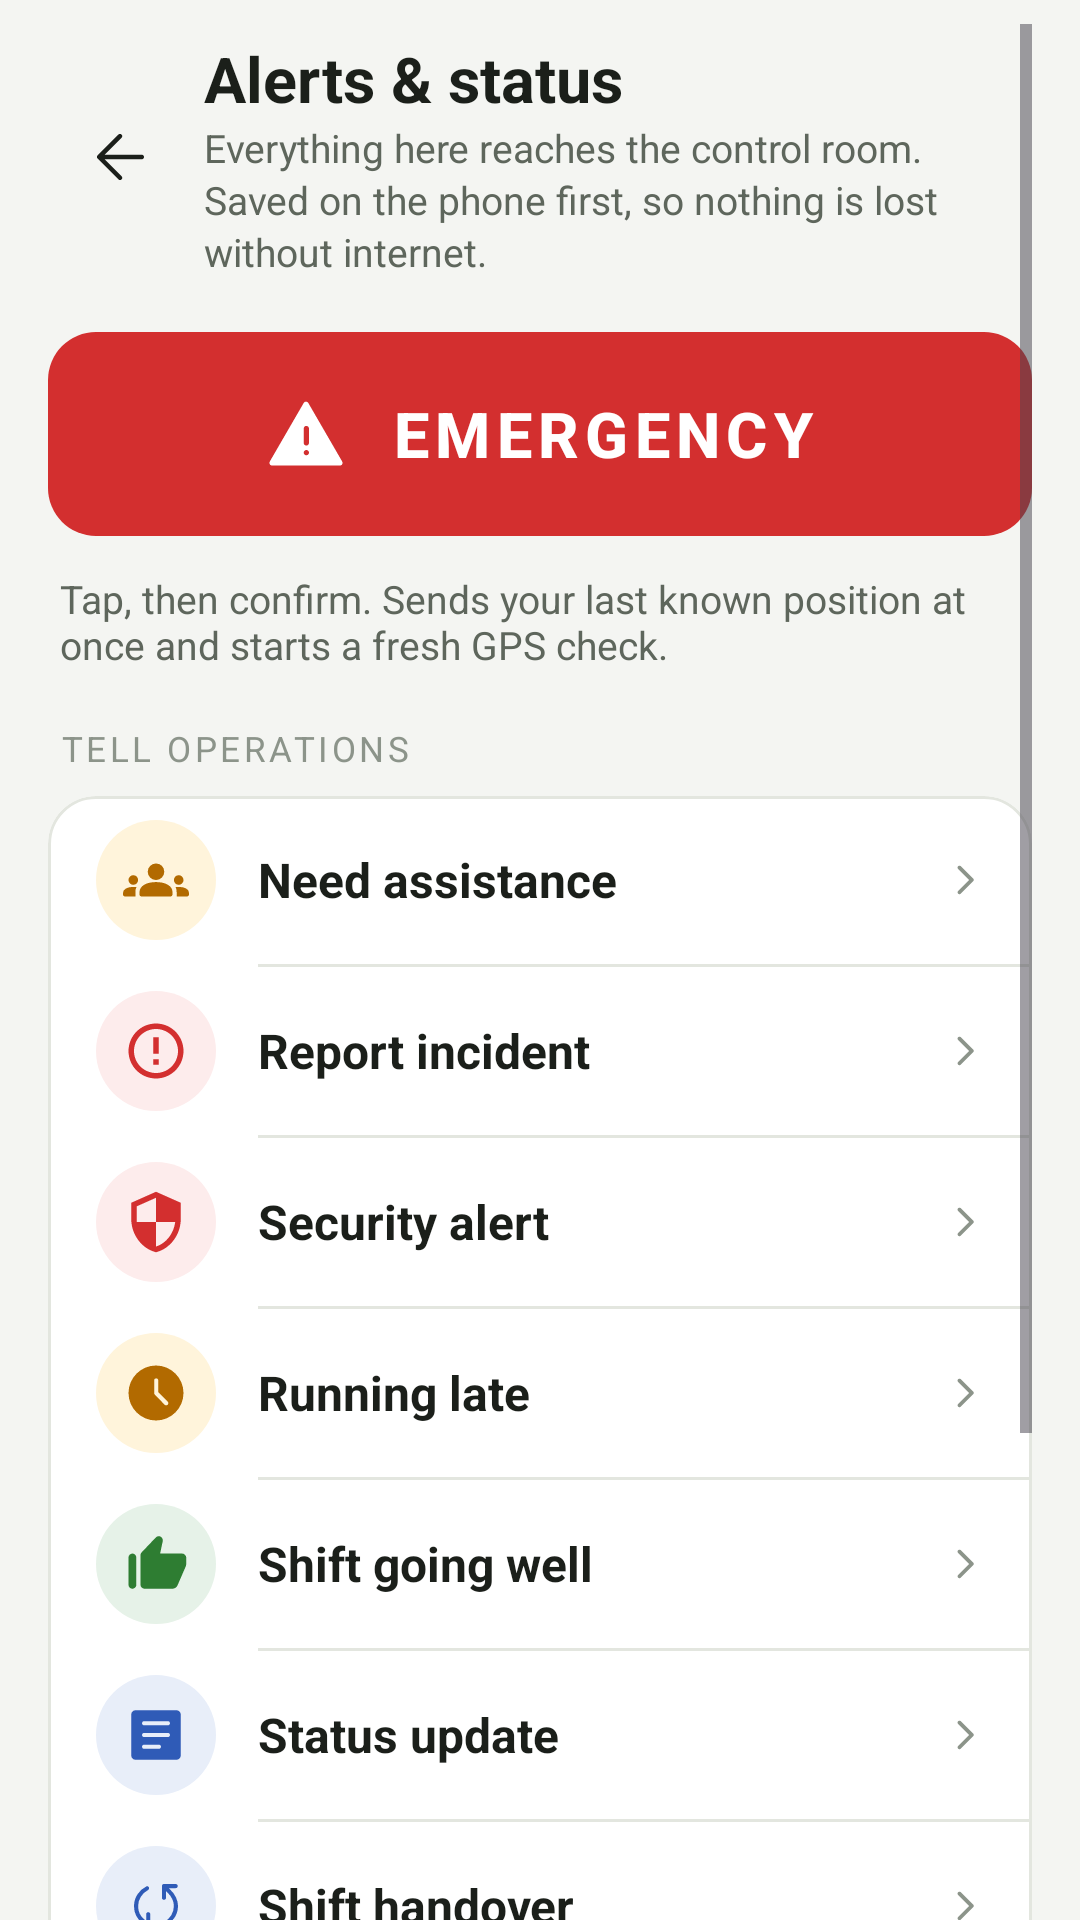

Named icons in this screenshot (1080*1920) and their bounding boxes, (x1, y1, x2, y2):
Back: (97, 134, 144, 180)
clock: (128, 1365, 184, 1421)
doc: (131, 1710, 181, 1760)
people: (123, 863, 189, 897)
shield: (131, 1192, 181, 1252)
thumb up: (128, 1536, 187, 1589)
